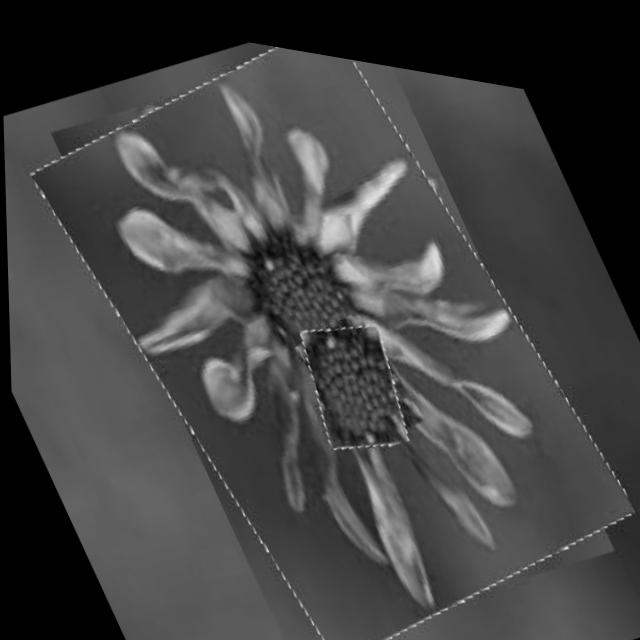Flower: (24, 3, 640, 640), (285, 291, 421, 457)
